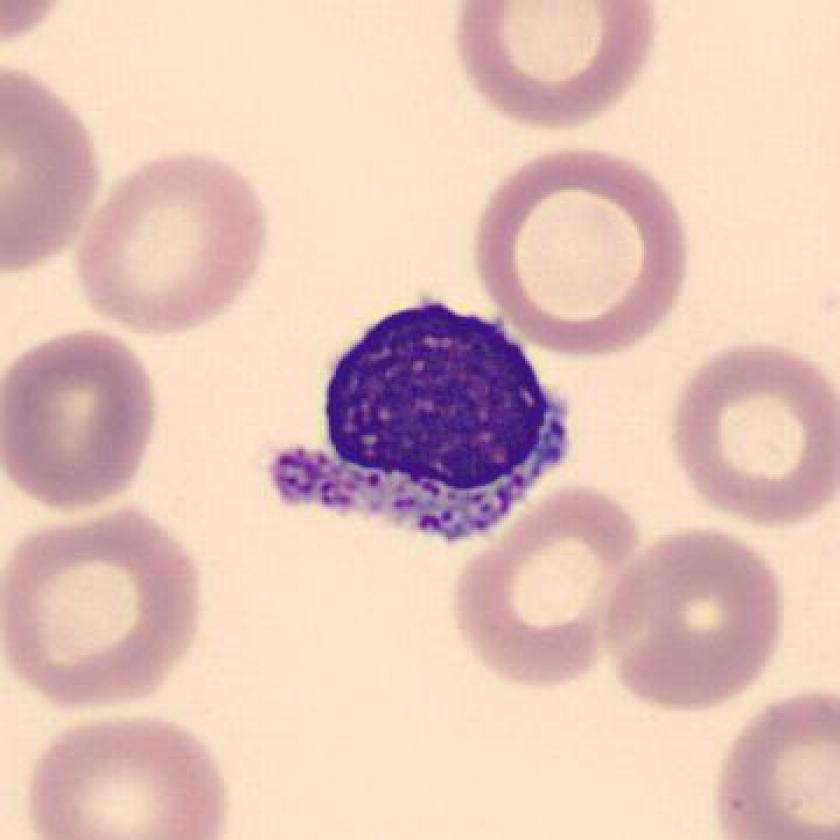lymphocyte: (256, 286, 592, 566)
